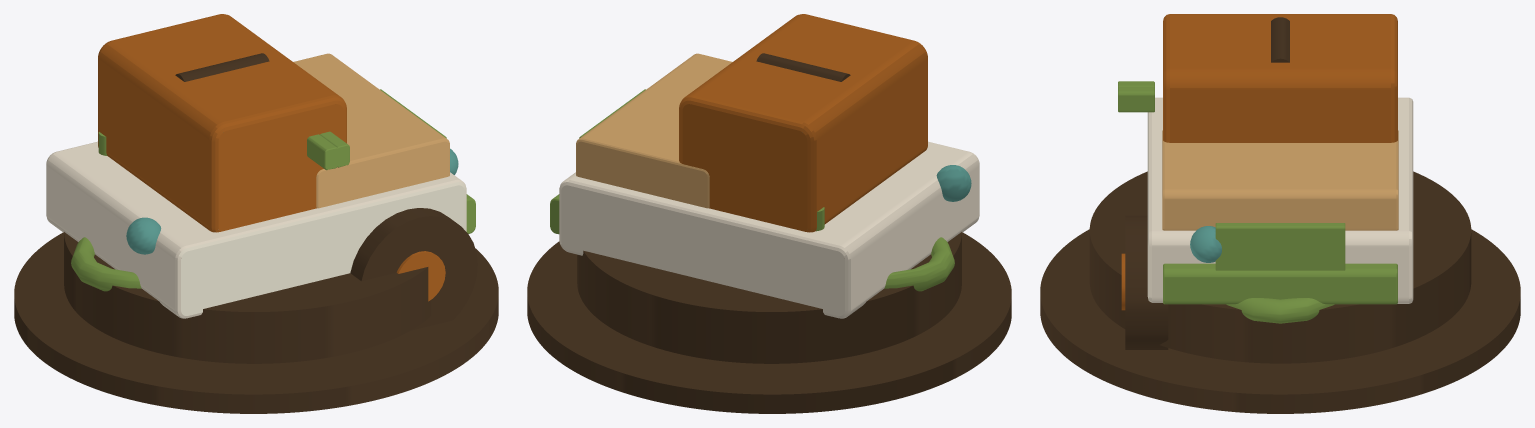
Rendered from 1154_海底两万里_细沙平原.glb.
3 views of the same model, side by side, from view 1: azimuth 30°, elevation 25°; view 2: azimuth 150°, elevation 25°; view 3: azimuth 270°, elevation 25° (orthographic).
Parts seen in each view (by area): view 1: card_1154; view 2: card_1154; view 3: card_1154.
Boxes of the visible parts, x1,y1,x2,y2 form: card_1154: (14, 14, 498, 413); card_1154: (527, 14, 1011, 413); card_1154: (1040, 14, 1520, 413).
Bounding box in the file's own units: 1.72 × 1 × 1.7.
